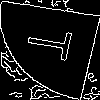T: (25, 24, 83, 63)
